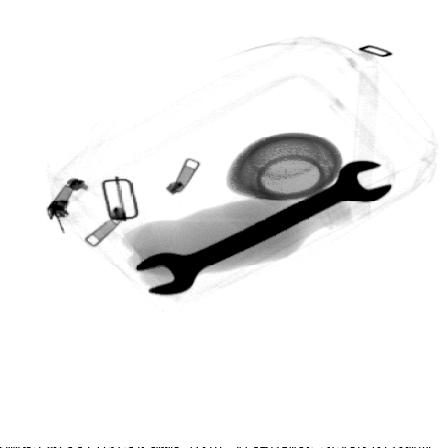Wrench: (136, 159, 396, 297)
